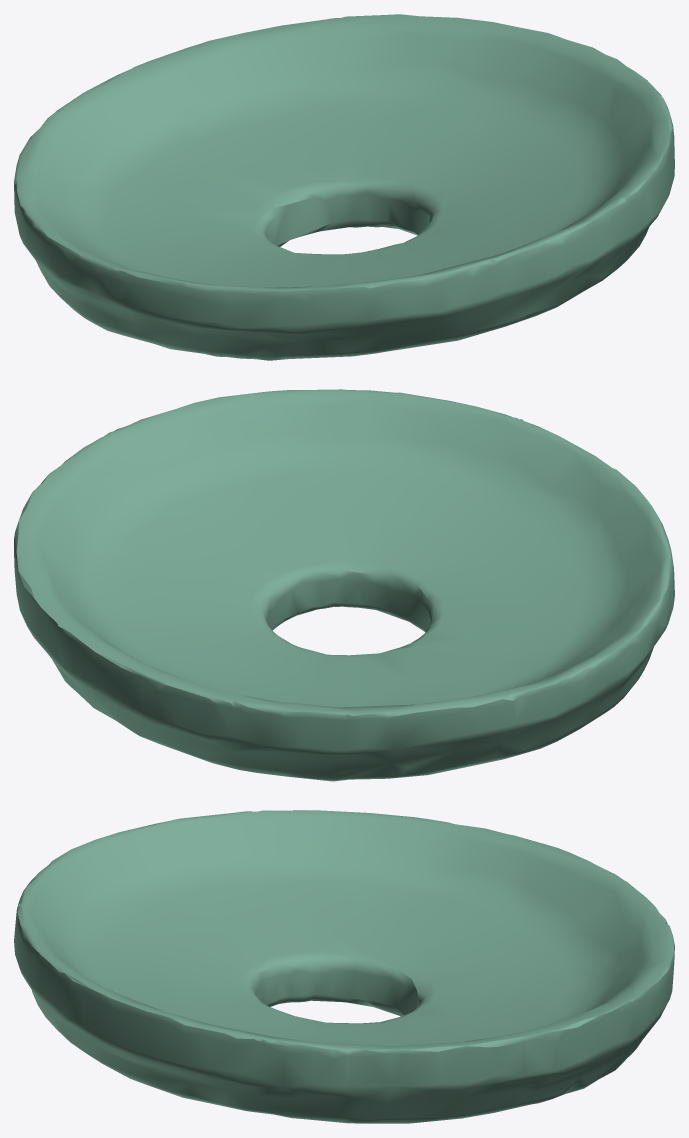
3 renders of one model, top to bottom at view 1: azimuth 30°, elevation 25°; view 2: azimuth 150°, elevation 25°; view 3: azimuth 270°, elevation 25°, orthographic.
Parts seen in each view (by area): view 1: 左侧虹膜; view 2: 左侧虹膜; view 3: 左侧虹膜.
Part boxes in pixels (left/top/right/bottom): 左侧虹膜: left=14, top=14, right=674, bottom=360; 左侧虹膜: left=14, top=389, right=674, bottom=781; 左侧虹膜: left=14, top=810, right=674, bottom=1123.
Size of the model in its own units: 0.0189 by 0.00475 by 0.019.
